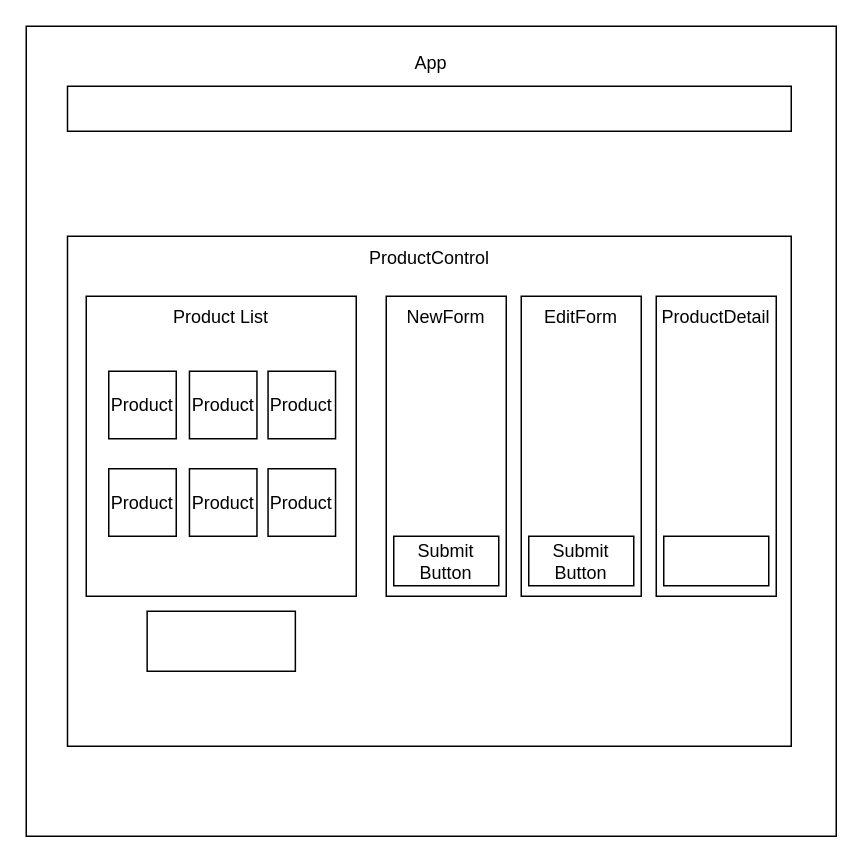
Image size: 863x863. Some labels were removed from this diagram. The centre of each missing label's shape, as x and y in pixels:
AddProduct Button: the point at 220,640
Edit/Delete Button: the point at 715,560
Header: the point at 428,108
